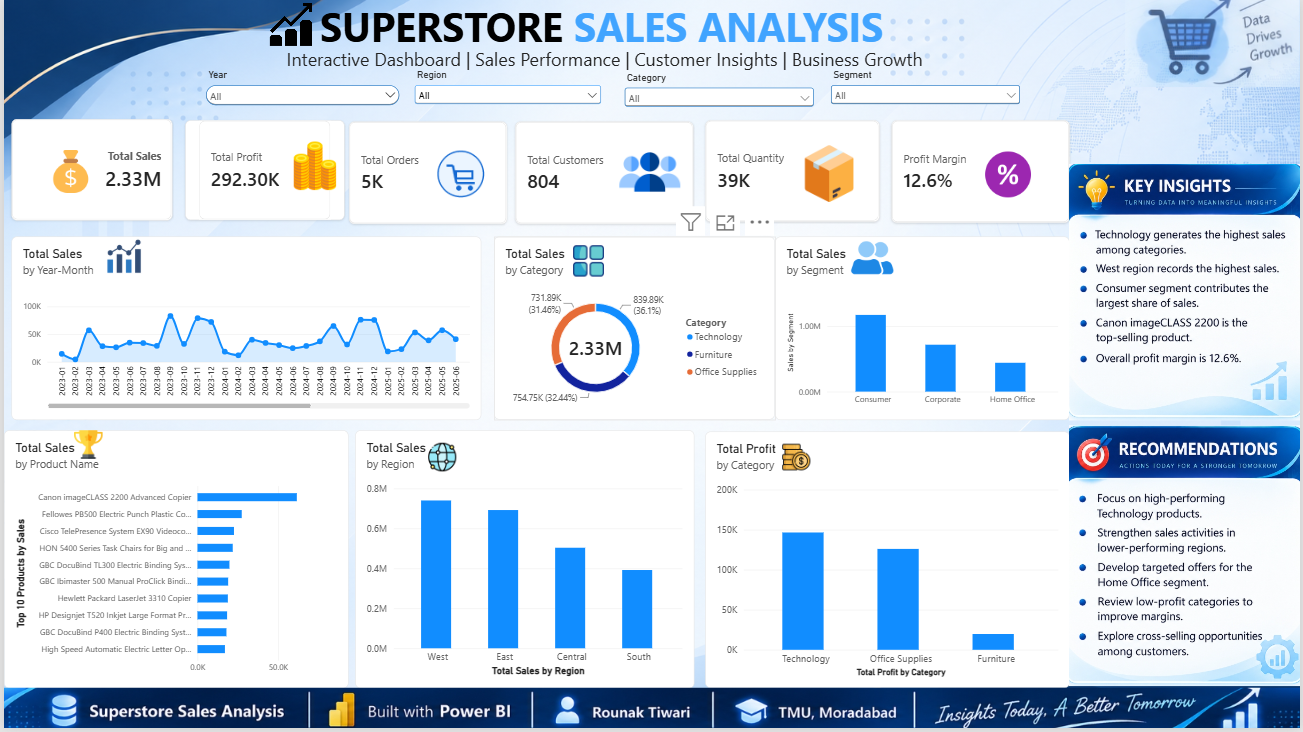

Layout of this report page (visuals, bound fields, positions):
{"tool":"powerbi","page":{"name":"Page 1","canvas":[1920,1080],"ordinal":0},"visuals":[{"type":"cardVisual","fields":{"Data":["DateTable.Profit Margin"]},"box":[1314,180,264,152],"z":0},{"type":"cardVisual","fields":{"Data":["DateTable.Total Sales"]},"box":[12,178,238,150],"z":1000},{"type":"cardVisual","fields":{"Data":["DateTable.Total Customers"]},"box":[758,182,264,152],"z":2000},{"type":"cardVisual","fields":{"Data":["DateTable.Total Orders"]},"box":[512,182,234,152],"z":3000},{"type":"cardVisual","fields":{"Data":["DateTable.Total Profit"]},"box":[268,180,236,148],"z":4000},{"type":"cardVisual","fields":{"Data":["DateTable.Total Quantity"]},"box":[1038,180,258,150],"z":5000},{"type":"textbox","box":[425.3,0,1085.8,85.1],"z":6000},{"type":"textbox","box":[267.8,70.6,1242.5,65],"z":7000},{"type":"lineChart","fields":{"Category":["DateTable.Year-Month"],"Y":["DateTable.Total Sales"]},"box":[12,352,696,272],"z":8000},{"type":"donutChart","fields":{"Category":["Orders.Category"],"Y":["DateTable.Total Sales"]},"box":[726,352,416.2,271.4],"z":9000},{"type":"columnChart","fields":{"Category":["Orders.Region"],"Y":["DateTable.Total Sales"]},"box":[520,638,502,382],"z":10000},{"type":"clusteredBarChart","fields":{"Category":["Orders.Product Name"],"Y":["DateTable.Total Sales"]},"box":[0,638,510,382],"z":11000},{"type":"clusteredColumnChart","fields":{"Category":["Orders.Category"],"Y":["DateTable.Total Profit"]},"box":[1038,640,540,380],"z":12000},{"type":"clusteredColumnChart","fields":{"Category":["Orders.Segment"],"Y":["DateTable.Total Sales"]},"box":[1142,352,436,272],"z":13000},{"type":"slicer","fields":{"Values":["Orders.Region"]},"box":[604,104,286,66],"z":14000},{"type":"slicer","fields":{"Values":["Orders.Category"]},"box":[914,108,290,74],"z":15000},{"type":"slicer","fields":{"Values":["Orders.Segment"]},"box":[1220,104,290,74],"z":16000},{"type":"slicer","title":"year","fields":{"Values":["DateTable.Year"]},"box":[294,104,296,70],"z":17000},{"type":"image","box":[416,212,88,72],"z":18000},{"type":"image","box":[628.3,217,98.1,84.9],"z":19000},{"type":"image","box":[64,216,68,78],"z":20000},{"type":"image","box":[890,212,132,90],"z":22000},{"type":"image","box":[1168,216,108,84],"z":23000},{"type":"image","box":[1446,226,82,68],"z":24000},{"type":"image","box":[104,638,42,42],"z":25000},{"type":"image","box":[610,658,80,42],"z":26000},{"type":"image","box":[126,352,104,58],"z":27000},{"type":"image","box":[1142,658,62,42],"z":28000},{"type":"image","box":[1244,350,84,66],"z":29000},{"type":"image","box":[840,364,50,46],"z":30000},{"type":"image","box":[0,1020,1920,60],"z":31000},{"type":"image","box":[1578,244,342,380],"z":32000},{"type":"image","box":[1578,632,342,386],"z":33000},{"type":"image","box":[1662,0,258,130],"z":34000},{"type":"image","box":[388.7,5.7,71.7,64.2],"z":34001}]}

Visuals, with their boxes in screenshot pixels (x1, y1, x2, y2), scaled from the page's 1920x1080 canvas onto the 1303x732 screenshot:
cardVisual - DateTable.Profit Margin: 892 122 1071 225
cardVisual - DateTable.Total Sales: 8 121 170 222
cardVisual - DateTable.Total Customers: 514 123 694 226
cardVisual - DateTable.Total Orders: 347 123 506 226
cardVisual - DateTable.Total Profit: 182 122 342 222
cardVisual - DateTable.Total Quantity: 704 122 880 224
textbox: 289 0 1026 58
textbox: 182 48 1025 92
lineChart - DateTable.Year-Month x DateTable.Total Sales: 8 239 480 423
donutChart - Orders.Category x DateTable.Total Sales: 493 239 775 423
columnChart - Orders.Region x DateTable.Total Sales: 353 432 694 691
clusteredBarChart - Orders.Product Name x DateTable.Total Sales: 0 432 346 691
clusteredColumnChart - Orders.Category x DateTable.Total Profit: 704 434 1071 691
clusteredColumnChart - Orders.Segment x DateTable.Total Sales: 775 239 1071 423
slicer - Orders.Region: 410 70 604 115
slicer - Orders.Category: 620 73 817 123
slicer - Orders.Segment: 828 70 1025 121
"year" slicer: 200 70 400 118
image: 282 144 342 192
image: 426 147 493 205
image: 43 146 90 199
image: 604 144 694 205
image: 793 146 866 203
image: 981 153 1037 199
image: 71 432 99 461
image: 414 446 468 474
image: 86 239 156 278
image: 775 446 817 474
image: 844 237 901 282
image: 570 247 604 278
image: 0 691 1302 731
image: 1071 165 1302 423
image: 1071 428 1302 690
image: 1128 0 1302 88
image: 264 4 312 47
